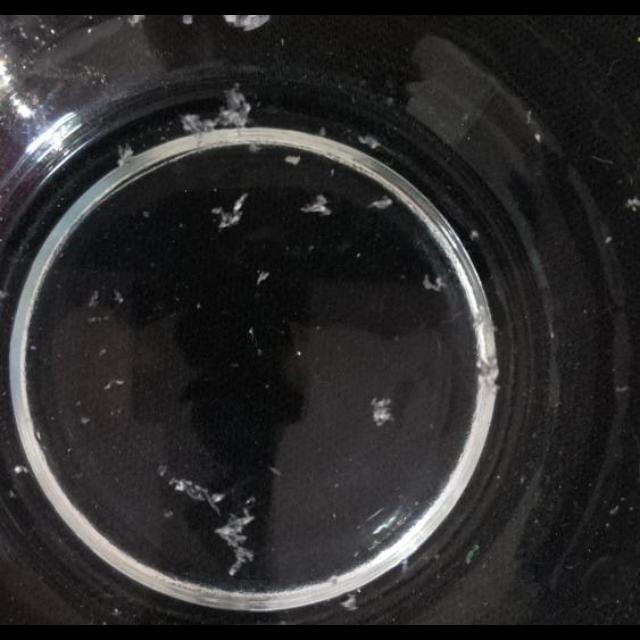Fibre: (180, 84, 254, 136), (165, 472, 228, 514), (214, 510, 256, 572), (212, 191, 250, 229), (476, 351, 500, 392), (223, 14, 269, 32), (370, 396, 394, 428), (299, 194, 333, 216), (180, 113, 210, 135), (423, 274, 447, 292), (117, 142, 135, 166), (357, 133, 381, 151), (368, 196, 394, 210), (104, 377, 126, 391), (340, 594, 358, 610), (256, 269, 270, 285), (88, 290, 100, 308), (625, 197, 639, 211), (12, 464, 28, 476), (128, 15, 146, 25), (284, 154, 302, 164), (112, 290, 124, 304), (616, 384, 630, 392)
microbeads: (248, 327, 262, 358), (156, 464, 168, 476), (470, 230, 480, 242), (163, 509, 174, 519), (248, 326, 256, 339), (80, 416, 90, 426), (98, 348, 106, 358), (112, 608, 122, 616), (533, 132, 541, 142), (520, 474, 526, 486), (605, 236, 613, 244), (332, 482, 340, 490), (610, 506, 618, 514), (142, 210, 150, 218), (34, 430, 40, 440), (29, 344, 36, 352), (196, 302, 202, 310), (331, 512, 337, 520), (296, 349, 302, 356)
